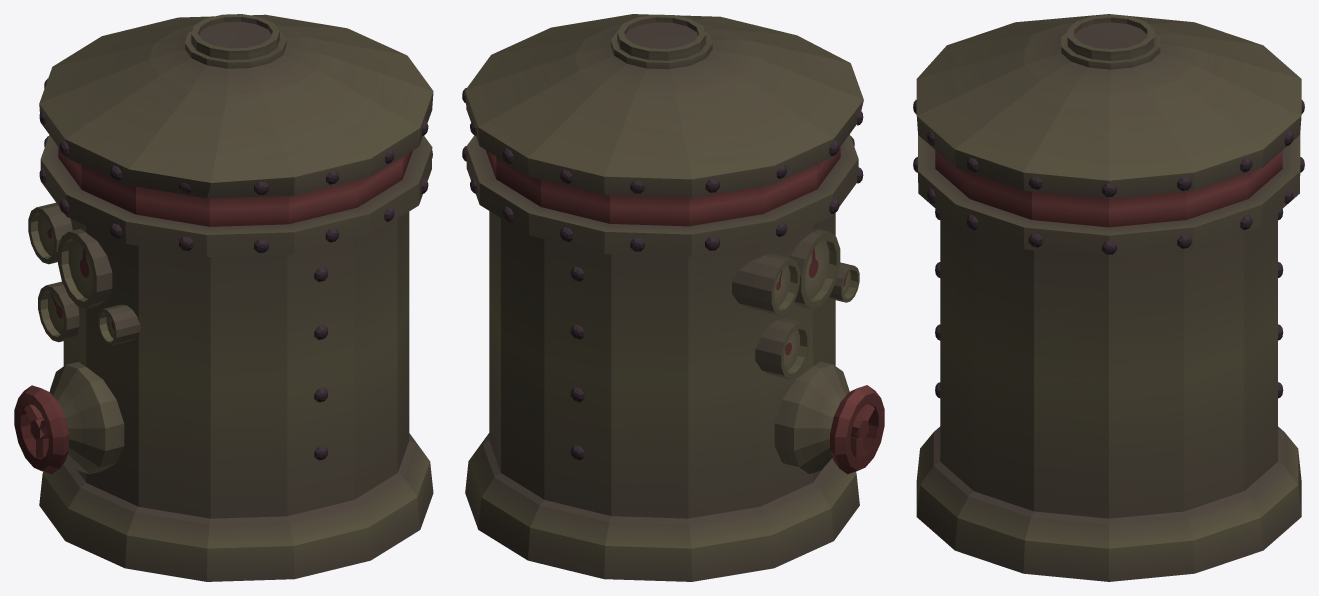
File: SM_Boiler.fbx
3 renders of one model, left to right at view 1: azimuth 30°, elevation 25°; view 2: azimuth 150°, elevation 25°; view 3: azimuth 270°, elevation 25°, orthographic.
Parts seen in each view (by area): view 1: Boiler; view 2: Boiler; view 3: Boiler.
Boxes of the visible parts, x1=… form: Boiler: x1=14, y1=14, x2=433, y2=581; Boiler: x1=462, y1=14, x2=884, y2=581; Boiler: x1=913, y1=14, x2=1304, y2=581.
Size of the model in its own units: 339 by 305 by 400.
